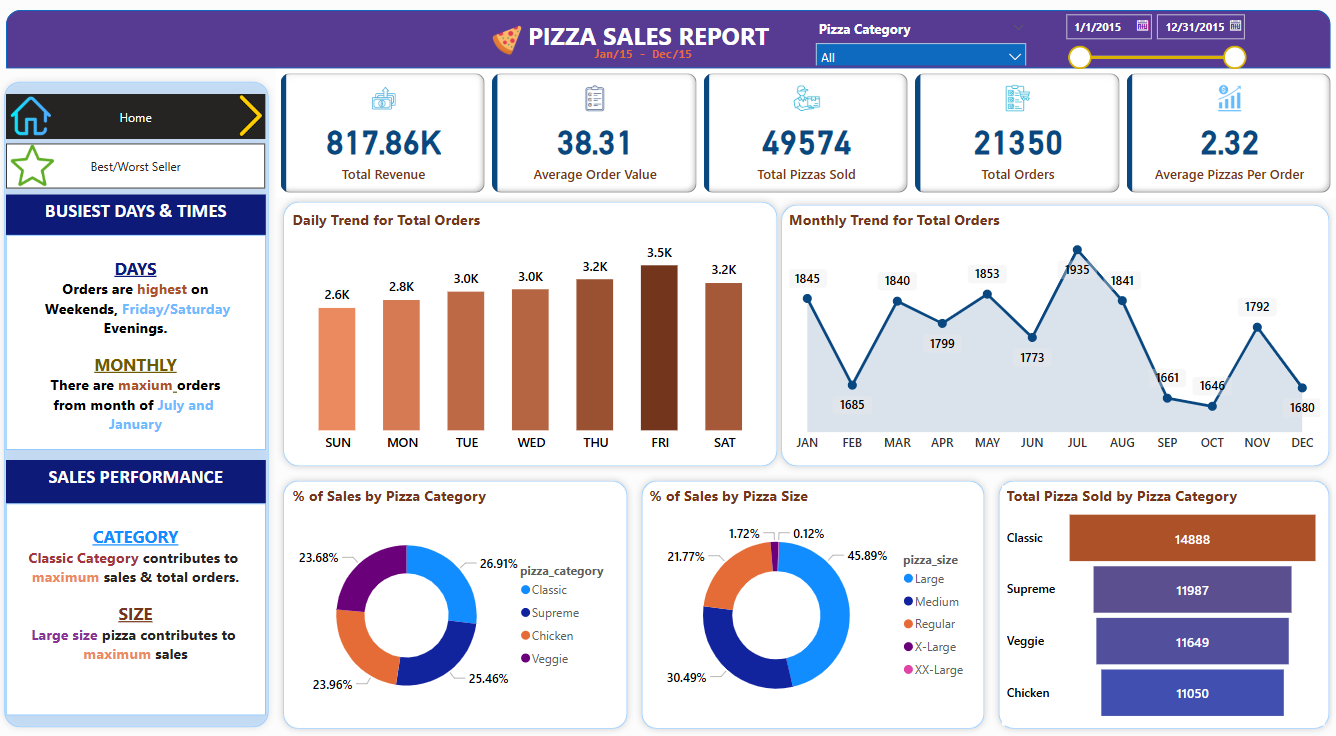

What the dashboard file says about the page in this screenshot:
{"tool":"powerbi","page":{"name":"Home","canvas":[1500,820],"ordinal":0},"visuals":[{"type":"cardVisual","fields":{"Data":["pizza_sales.Total Revenue","pizza_sales.Average Order Value","pizza_sales.Total Pizzas Sold","pizza_sales.Total Orders","pizza_sales.Average Pizzas Per Order"]},"box":[310,78.3,1178.3,143],"z":0},{"type":"shape","box":[10,13.3,1471.7,65],"z":1000},{"type":"textbox","box":[585,18.3,293.3,56.7],"z":2000},{"type":"textbox","box":[658.3,46.7,146.7,28.3],"z":3000},{"type":"image","box":[536.7,25,60,43.3],"z":4000},{"type":"shape","box":[310,218.3,565,310],"z":5000},{"type":"columnChart","title":"Daily Trend for Total Orders","fields":{"Category":["pizza_sales.Order Day"],"Y":["pizza_sales.Total Orders"]},"box":[323.3,235,540,278.3],"z":6000},{"type":"shape","box":[863.3,221.7,625,306.7],"z":7000},{"type":"areaChart","title":"Monthly  Trend for Total Orders","fields":{"Category":["pizza_sales.Order Month"],"Y":["pizza_sales.Total Orders"]},"box":[875,235,600,278.3],"z":8000},{"type":"shape","box":[310,528.3,398.3,291.7],"z":9000},{"type":"shape","box":[708.3,528.3,396.7,291.7],"z":10000},{"type":"shape","box":[0,85,310,733.3],"z":11000},{"type":"shape","box":[1105,528.3,383.3,291.7],"z":12000},{"type":"donutChart","title":"% of Sales by Pizza Category","fields":{"Category":["pizza_sales.pizza_category"],"Y":["pizza_sales.Total Revenue"]},"box":[323.3,541.7,371.7,266.7],"z":13000},{"type":"donutChart","title":"% of Sales by Pizza Size","fields":{"Y":["pizza_sales.Total Revenue"],"Category":["pizza_sales.pizza_size"]},"box":[720,541.7,371.7,266.7],"z":14000},{"type":"funnel","title":"Total Pizza Sold by Pizza Category","fields":{"Category":["pizza_sales.pizza_category"],"Y":["pizza_sales.Total Pizzas Sold"]},"box":[1116.7,541.7,358.3,266.7],"z":15000},{"type":"textbox","box":[10,218.3,288.3,45],"z":16000},{"type":"textbox","box":[10,263.3,288.3,238.3],"z":17000},{"type":"textbox","box":[10,513.3,288.3,48.3],"z":18000},{"type":"textbox","box":[10,561.7,288.3,235],"z":19000},{"type":"slicer","fields":{"Values":["pizza_sales.pizza_category"]},"box":[900,18.3,253.3,56.7],"z":20000},{"type":"slicer","fields":{"Values":["pizza_sales.order_date"]},"box":[1175,8.3,221.7,85],"z":21000},{"type":"pageNavigator","box":[10,106.7,288.3,50],"z":21001},{"type":"pageNavigator","box":[10,161.7,288.3,50],"z":21002},{"type":"image","box":[253.3,100,56.7,61.7],"z":21003},{"type":"image","box":[10,100,55,61.7],"z":21004},{"type":"image","box":[10,150,58.3,71.7],"z":21005}]}

Visuals, with their boxes in screenshot pixels (x1, y1, x2, y2), scaled from the page's 1500x820 canvas onto the 1336x736 screenshot:
cardVisual - pizza_sales.Total Revenue x pizza_sales.Average Order Value: l=276, t=70, r=1326, b=199
shape: l=9, t=12, r=1320, b=70
textbox: l=521, t=16, r=782, b=67
textbox: l=586, t=42, r=717, b=67
image: l=478, t=22, r=531, b=61
shape: l=276, t=196, r=779, b=474
"Daily Trend for Total Orders" columnChart: l=288, t=211, r=769, b=461
shape: l=769, t=199, r=1326, b=474
"Monthly  Trend for Total Orders" areaChart: l=779, t=211, r=1314, b=461
shape: l=276, t=474, r=631, b=735
shape: l=631, t=474, r=984, b=735
shape: l=0, t=76, r=276, b=734
shape: l=984, t=474, r=1326, b=735
"% of Sales by Pizza Category" donutChart: l=288, t=486, r=619, b=726
"% of Sales by Pizza Size" donutChart: l=641, t=486, r=972, b=726
"Total Pizza Sold by Pizza Category" funnel: l=995, t=486, r=1314, b=726
textbox: l=9, t=196, r=266, b=236
textbox: l=9, t=236, r=266, b=450
textbox: l=9, t=461, r=266, b=504
textbox: l=9, t=504, r=266, b=715
slicer - pizza_sales.pizza_category: l=802, t=16, r=1027, b=67
slicer - pizza_sales.order_date: l=1047, t=7, r=1244, b=84
pageNavigator: l=9, t=96, r=266, b=141
pageNavigator: l=9, t=145, r=266, b=190
image: l=226, t=90, r=276, b=145
image: l=9, t=90, r=58, b=145
image: l=9, t=135, r=61, b=199
